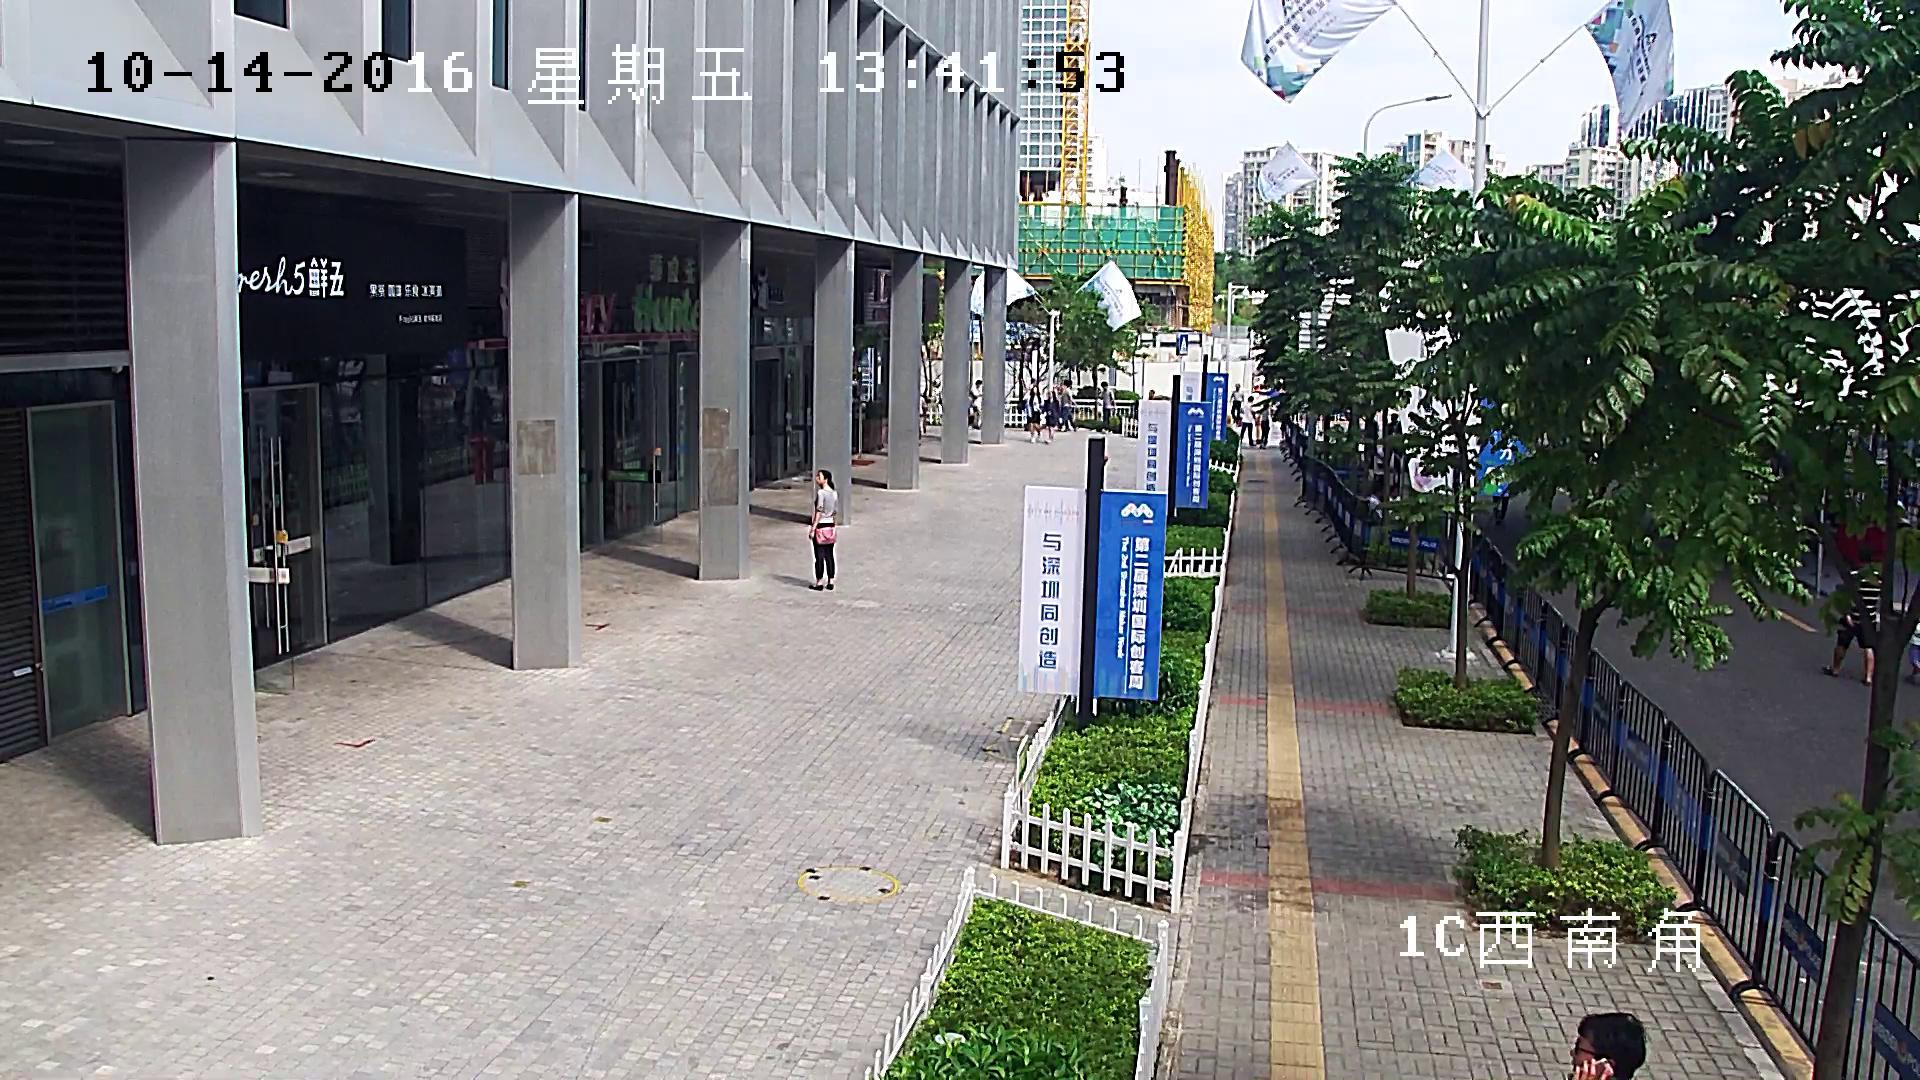person: (1821, 545, 1884, 685), (808, 469, 838, 591), (1059, 378, 1077, 432), (1028, 385, 1044, 443), (1043, 391, 1060, 443), (1098, 382, 1117, 430), (1240, 396, 1257, 446), (969, 379, 983, 431), (1230, 383, 1244, 424), (1260, 398, 1269, 448)
